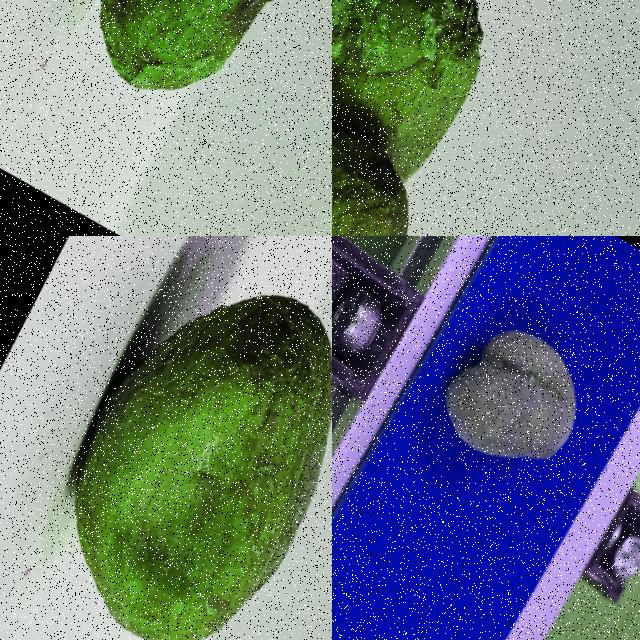Agglomerated_cocoabeans: (0, 236, 331, 639), (332, 236, 639, 628), (0, 0, 331, 206), (332, 0, 580, 235)
